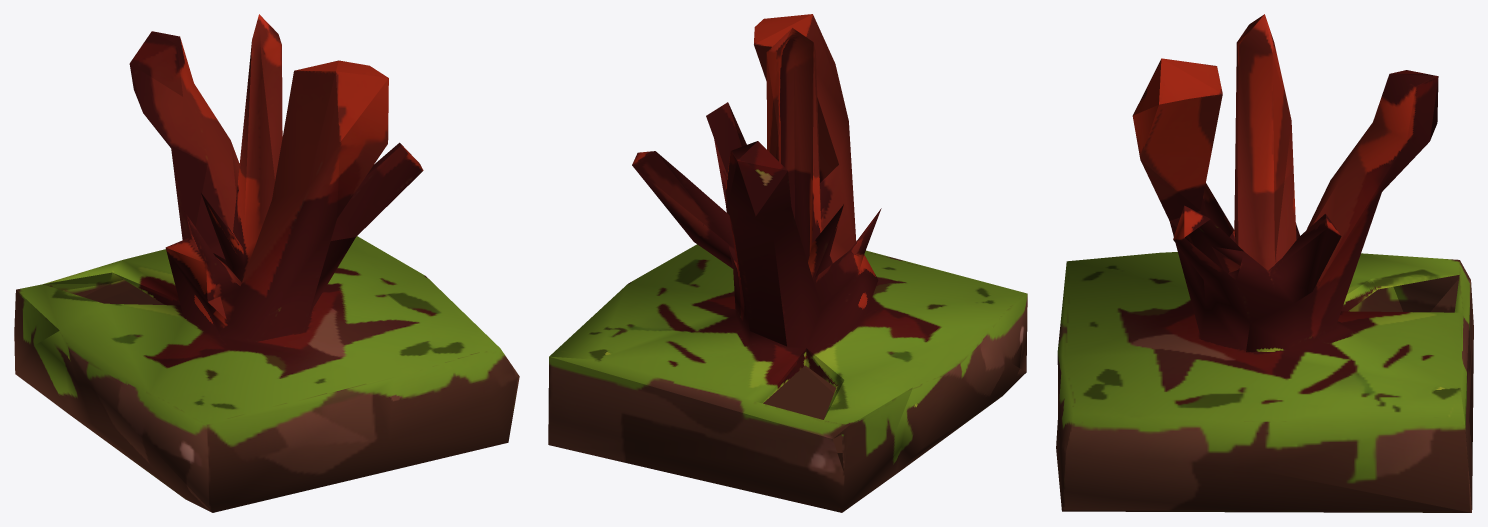
The model's file is mindflayer-lichen.glb.
3 renders of one model, left to right at view 1: azimuth 30°, elevation 25°; view 2: azimuth 150°, elevation 25°; view 3: azimuth 270°, elevation 25°, orthographic. The views are drawn at different scales.
Visible parts, largest first — view 1: geometry_0.001; view 2: geometry_0.001; view 3: geometry_0.001.
Part boxes in pixels (box(x1,y1,x2,y2)): geometry_0.001: box(14, 14, 519, 512); geometry_0.001: box(548, 14, 1027, 512); geometry_0.001: box(1056, 14, 1473, 512).
Bounding box in the file's own units: 0.9091 × 0.9983 × 0.8996.
1 material, 1 textured.
